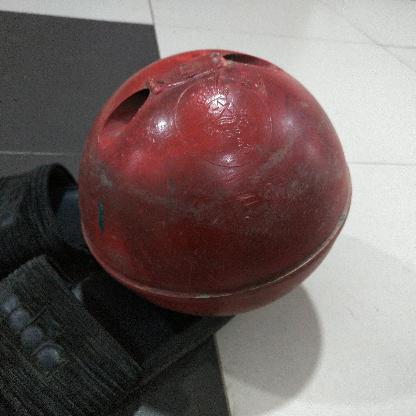red_buoy: (77, 46, 354, 320)
